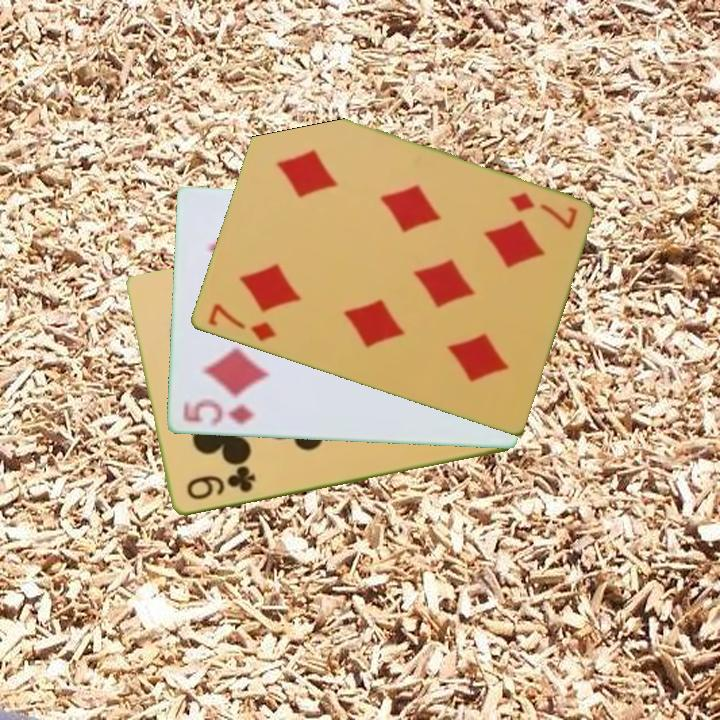5d: (178, 397, 257, 429)
7d: (204, 300, 279, 345), (505, 189, 580, 233)
9c: (183, 465, 259, 504)
